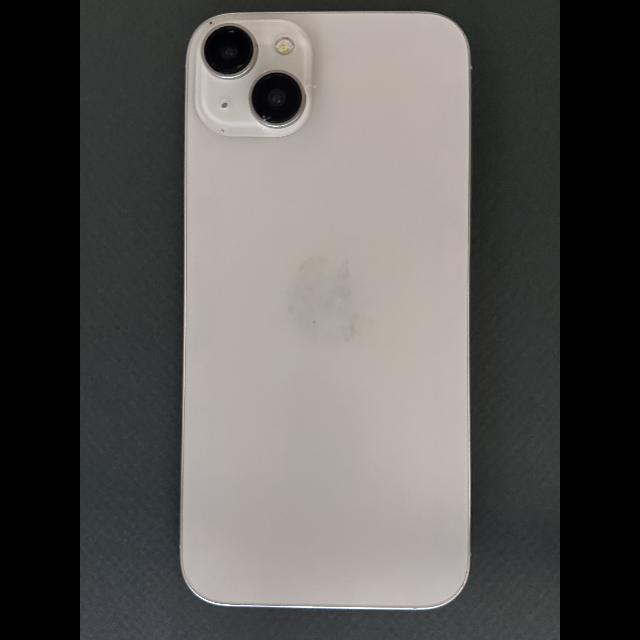lens: (249, 69, 306, 127), (201, 22, 256, 78)
phone: (179, 10, 472, 611)
